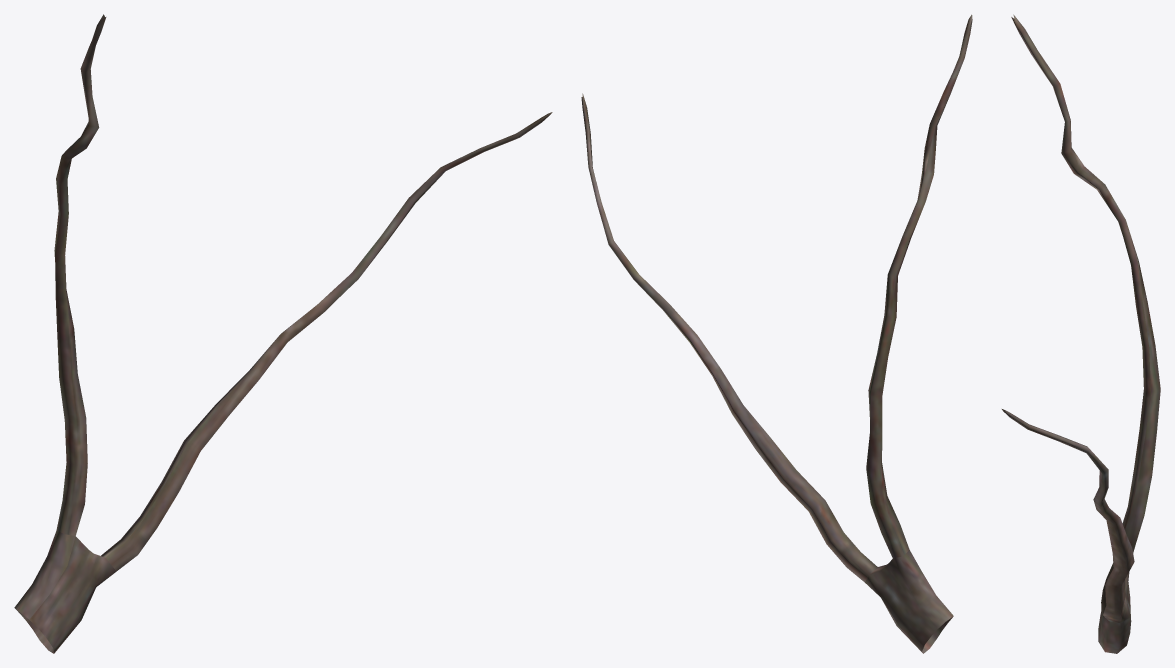
File: SM_Stick_02.fbx
3 views of the same model, side by side, from view 1: azimuth 30°, elevation 25°; view 2: azimuth 150°, elevation 25°; view 3: azimuth 270°, elevation 25° (orthographic). The views are drawn at different scales.
Visible parts, largest first — view 1: SM_Stick_02_LOD0; view 2: SM_Stick_02_LOD0; view 3: SM_Stick_02_LOD0.
Boxes of the visible parts, box(x1,y1,x2,y2) form: SM_Stick_02_LOD0: box(14, 14, 552, 653); SM_Stick_02_LOD0: box(581, 14, 972, 653); SM_Stick_02_LOD0: box(1002, 14, 1160, 653).
Bounding box in the file's own units: 171 × 52.63 × 233.
